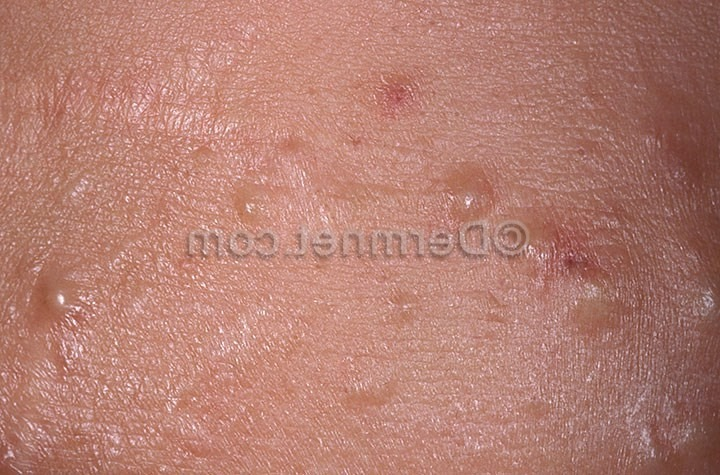Acne: (34, 130, 623, 424)
